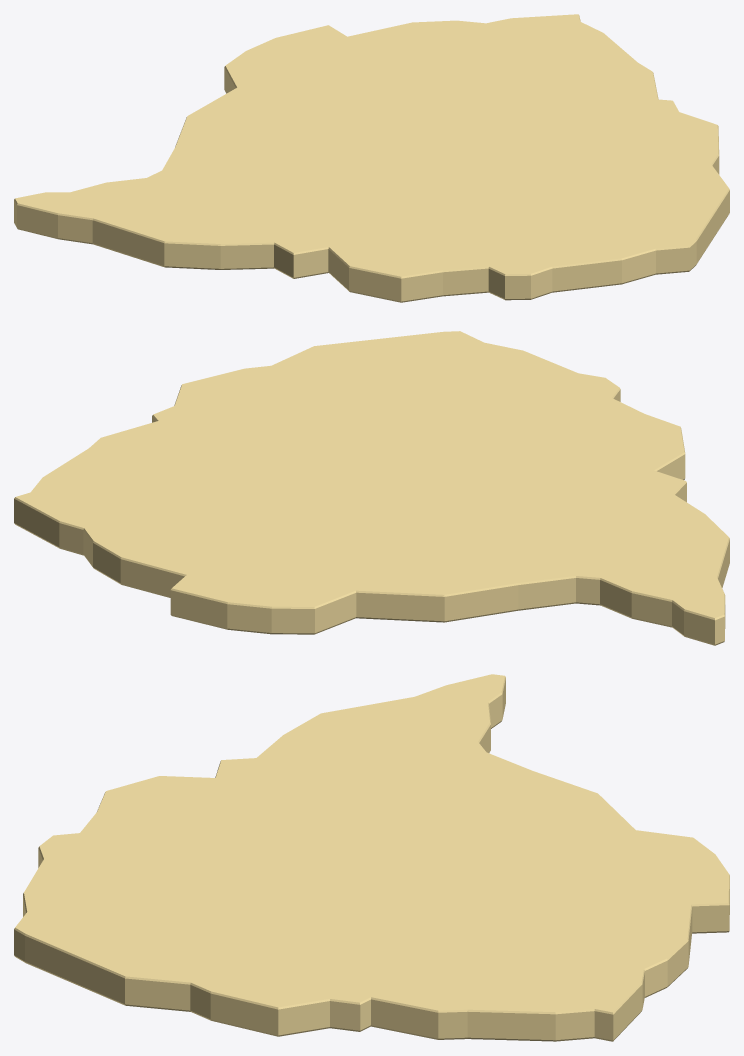
Rendered from ZWE.glb.
The picture shows the model from 3 angles, top to bottom: view 1: azimuth 30°, elevation 25°; view 2: azimuth 150°, elevation 25°; view 3: azimuth 270°, elevation 25°; orthographic projection. The views are drawn at different scales.
Bounding box in the file's own units: 1.68 × 0.068 × 1.5.
